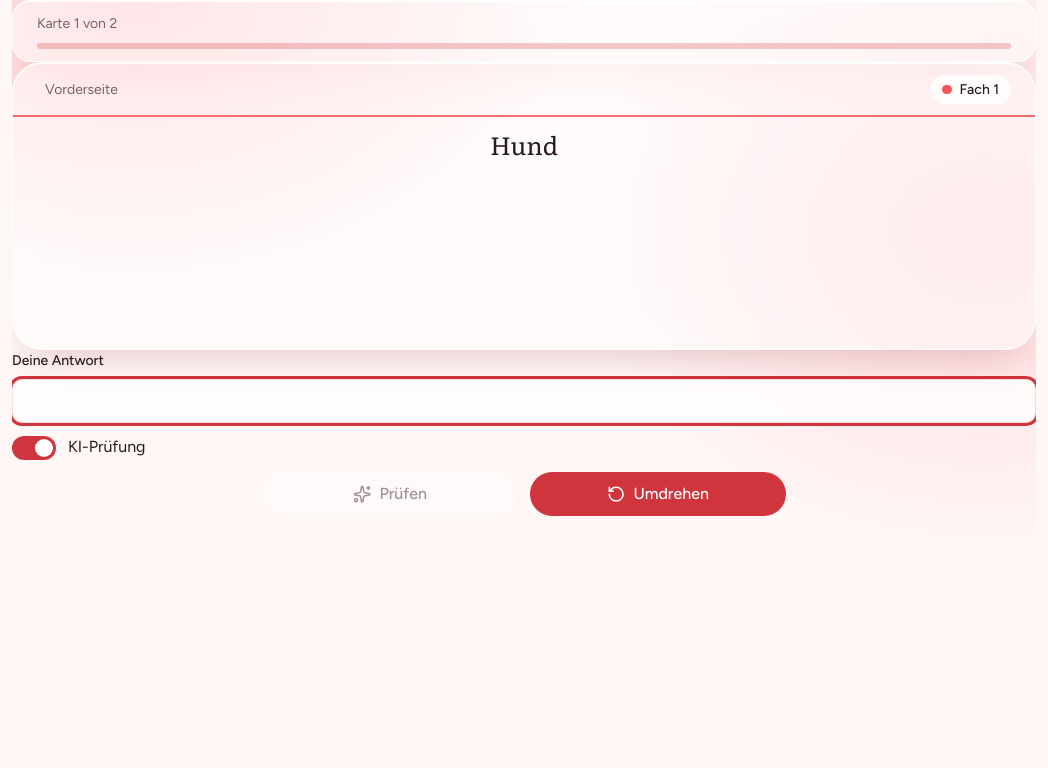
it: LearnSession with AI check › falls back to self-grading if the AI is not available
The image size is (1048, 768).
In the field labelled "Deine Antwort": (524, 401) x1=12 y1=379 x2=1036 y2=423, type "dog"
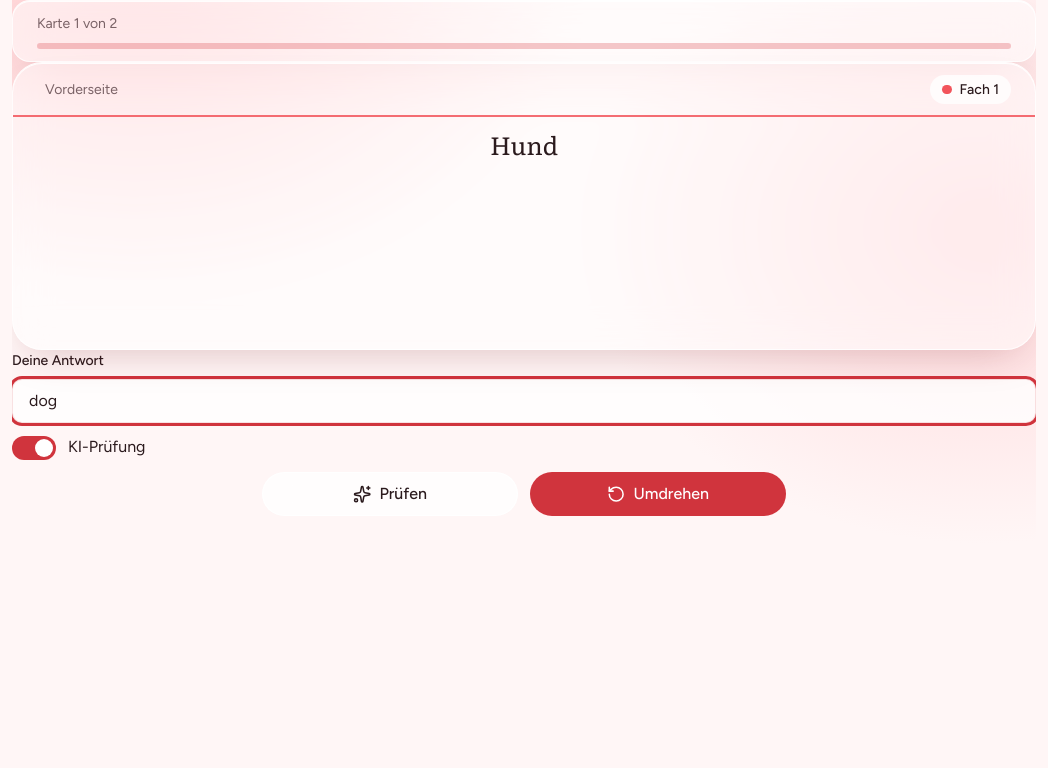
Click the button "Prüfen": (390, 494) x1=262 y1=472 x2=518 y2=516
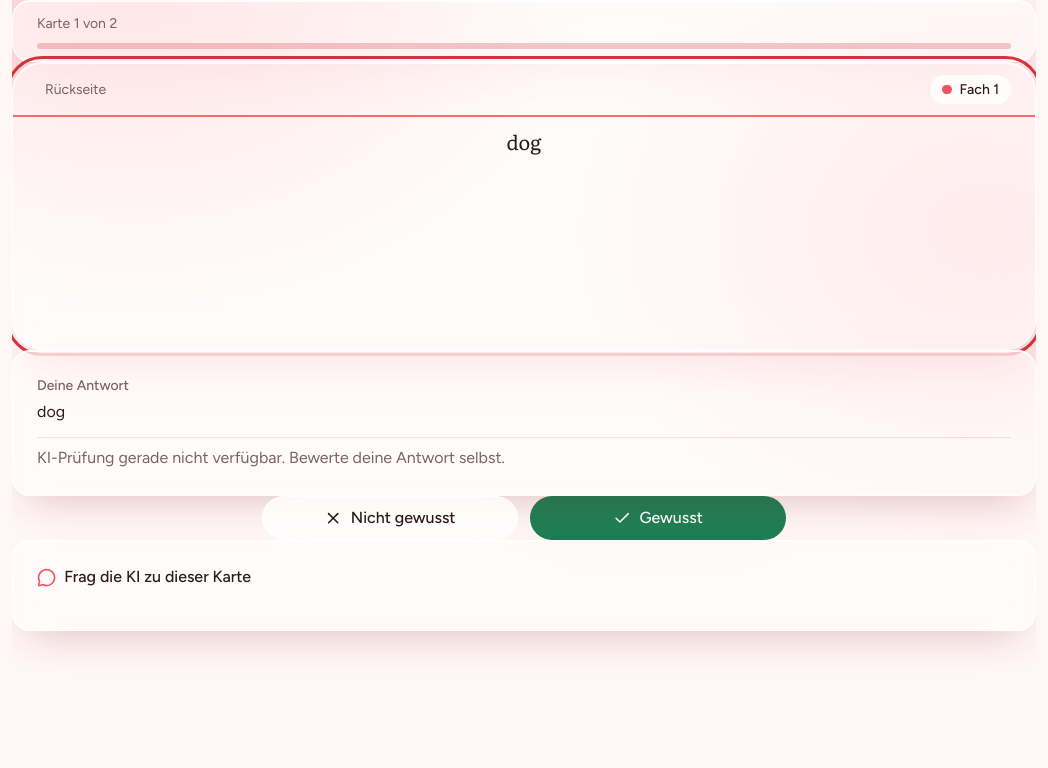
Expected: the button "Gewusst" is enabled, x1=530 y1=496 x2=786 y2=540
Now the text "KI-Prüfung gerade nicht verfügbar" is shown, box x1=37 y1=448 x2=505 y2=467
